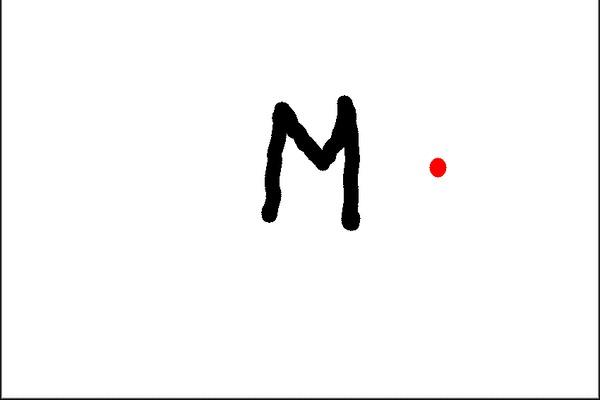M: (258, 91, 362, 231)
